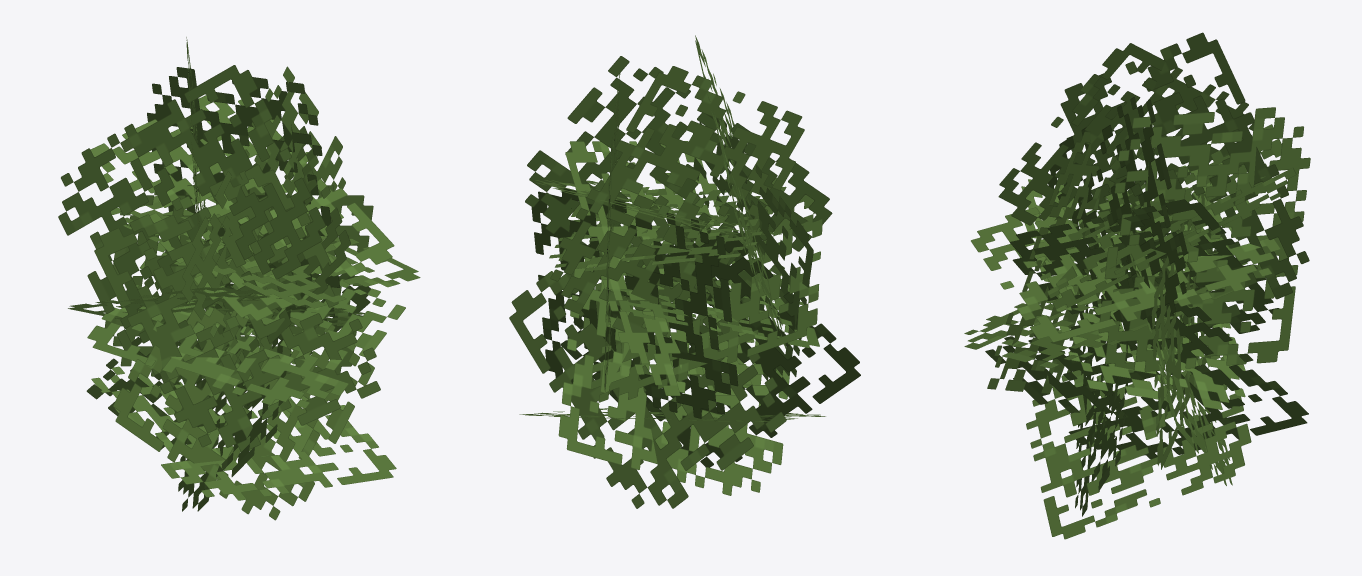
Rendered from BigBush.fbx.
The picture shows the model from 3 angles, left to right: view 1: azimuth 30°, elevation 25°; view 2: azimuth 150°, elevation 25°; view 3: azimuth 270°, elevation 25°; orthographic projection. The views are drawn at different scales.
Visible parts, largest first — view 1: BigBush; view 2: BigBush; view 3: BigBush.
Boxes of the visible parts, x1,y1,x2,y2 form: BigBush: (58,37,420,520); BigBush: (509,35,860,508); BigBush: (964,32,1310,539).
Bounding box in the file's own units: 108 × 153 × 115.
